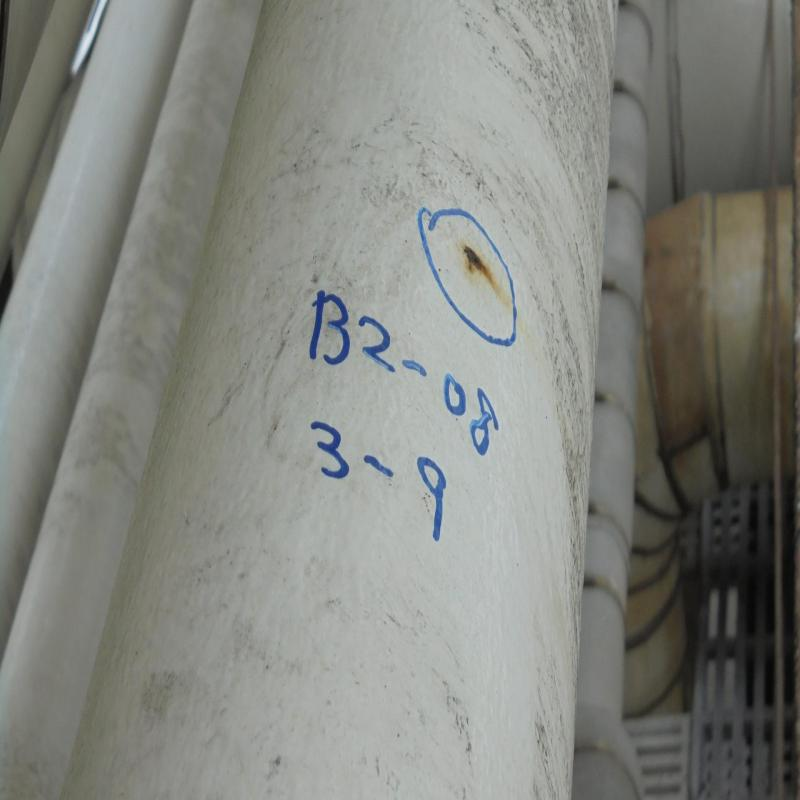corrosion: (462, 237, 493, 279)
